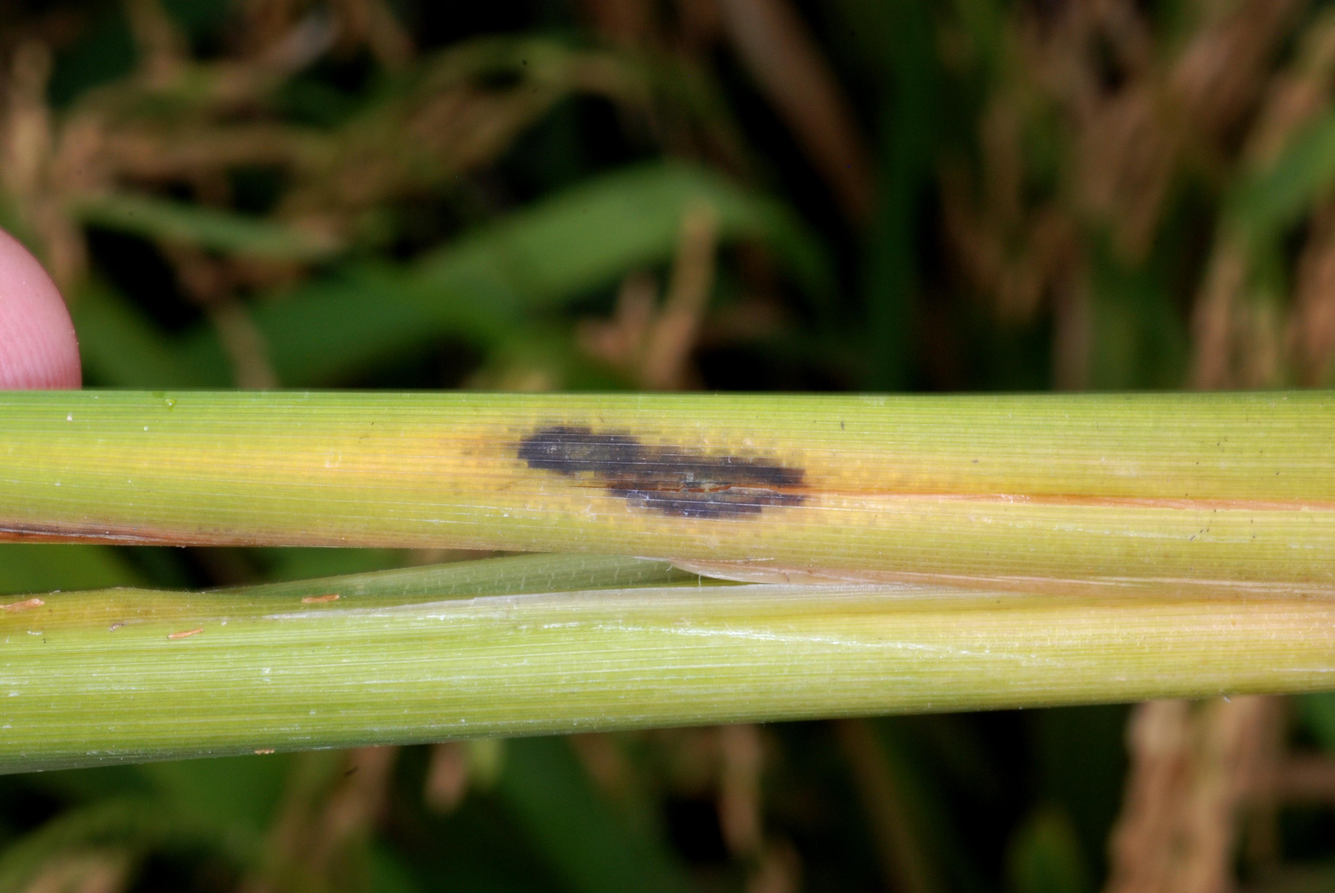Stem Rot: (1, 392, 1335, 597), (436, 396, 857, 585)
